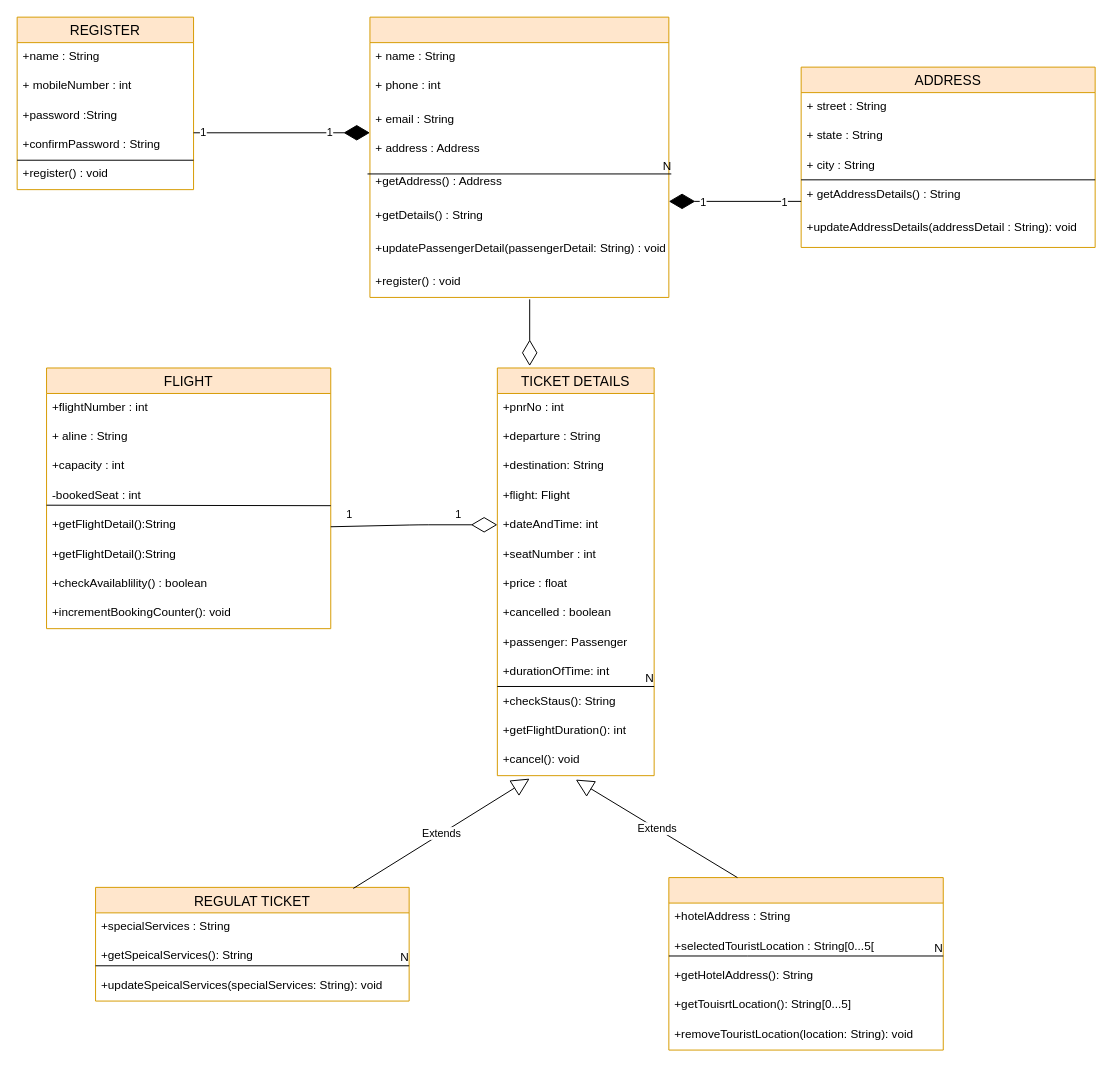
Some shapes in this 1113 by 1070 pixel diagram are drawn without their labels. The box of each missing label's shape, as (x1, y1, x2, y2) in pixels:
PASSENGERS: (369, 16, 669, 297)
TOURIST TICKET: (668, 877, 943, 1050)
